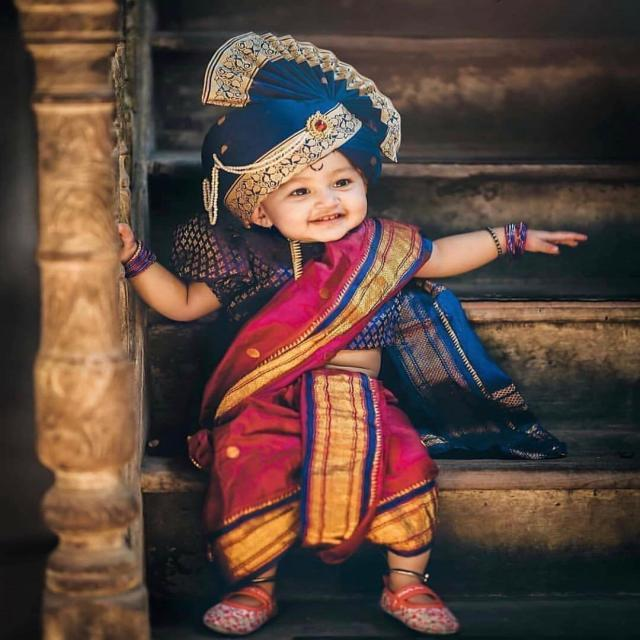non-dog: (117, 31, 588, 634)
